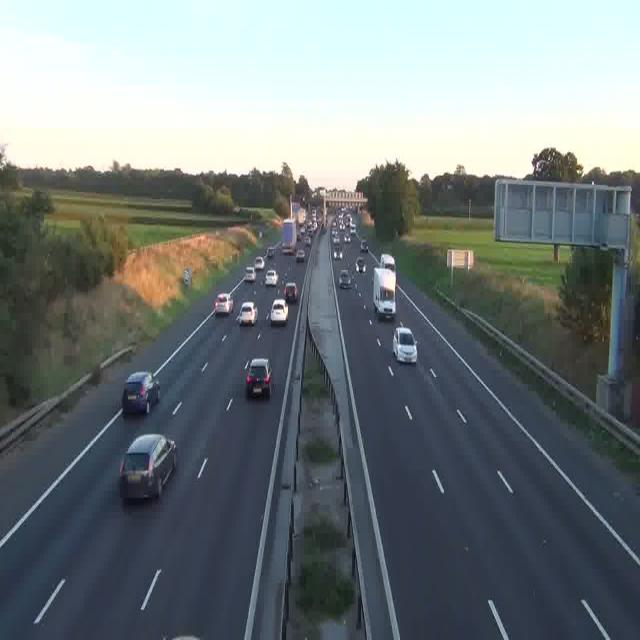car: (120, 434, 177, 501), (121, 372, 160, 415), (245, 358, 273, 398), (392, 326, 416, 363), (270, 300, 288, 326), (238, 302, 257, 326), (214, 292, 232, 314), (282, 281, 296, 302), (264, 268, 278, 286), (339, 269, 351, 288), (245, 266, 258, 282), (253, 257, 265, 270), (355, 258, 365, 272), (295, 249, 305, 262), (334, 246, 344, 259), (358, 243, 366, 254), (332, 234, 340, 245)
truck: (372, 253, 396, 320), (280, 218, 296, 253)
